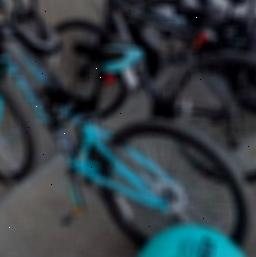algae: (137, 226, 256, 257)
